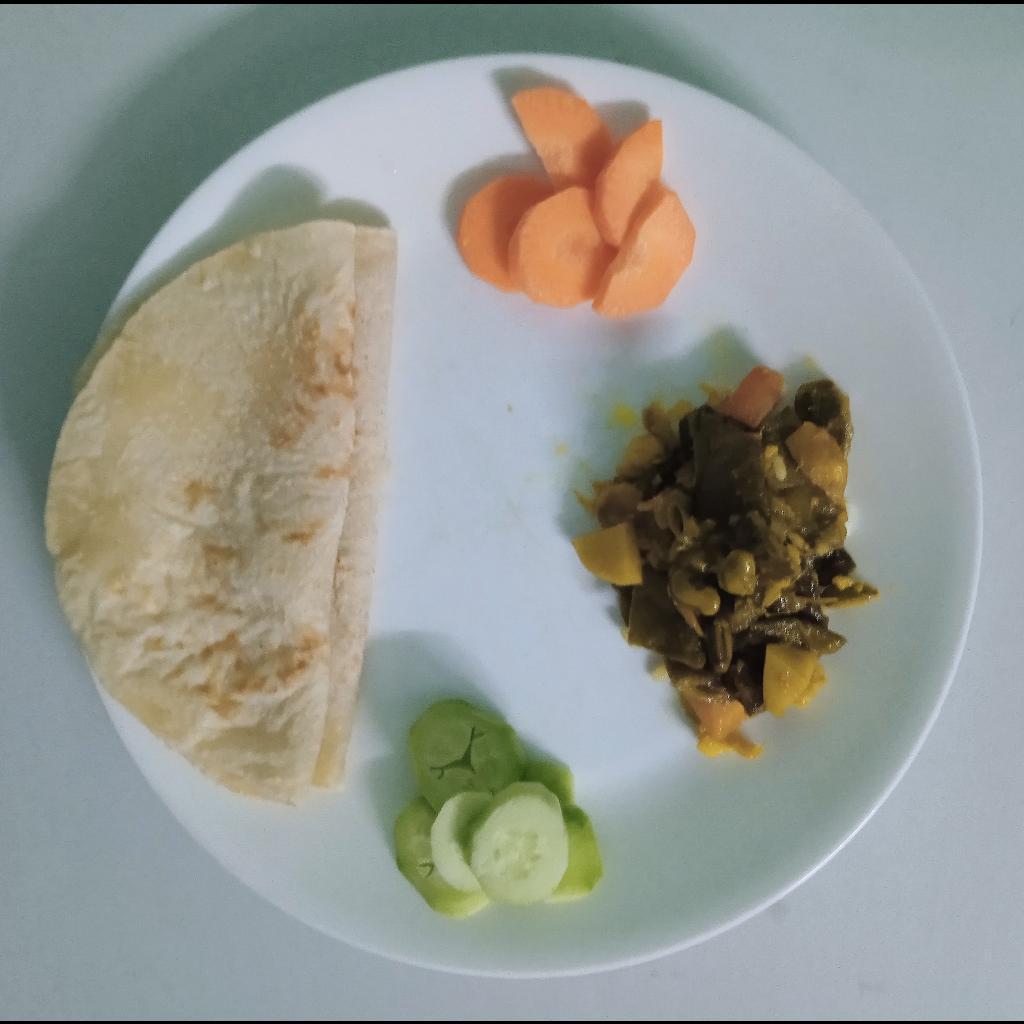carrot: (455, 85, 696, 316)
cucumber: (389, 696, 606, 920)
ruti: (41, 217, 395, 811)
vegetable: (573, 364, 879, 752)
